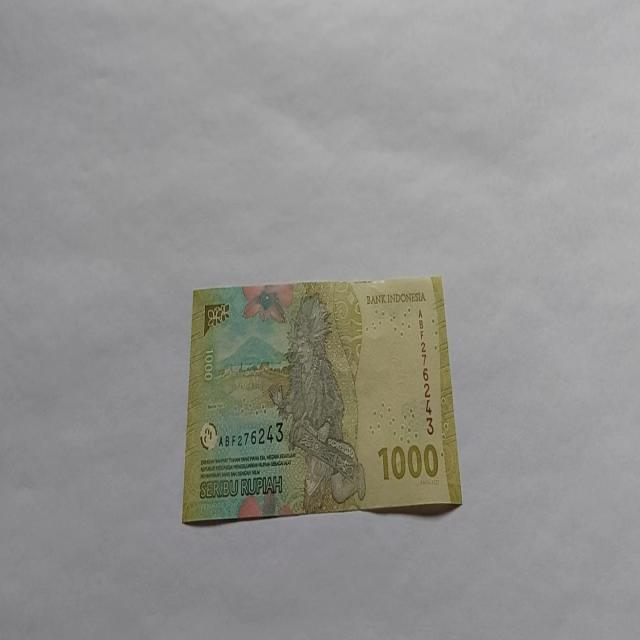seribu rupiah kertas: (181, 274, 462, 524)
